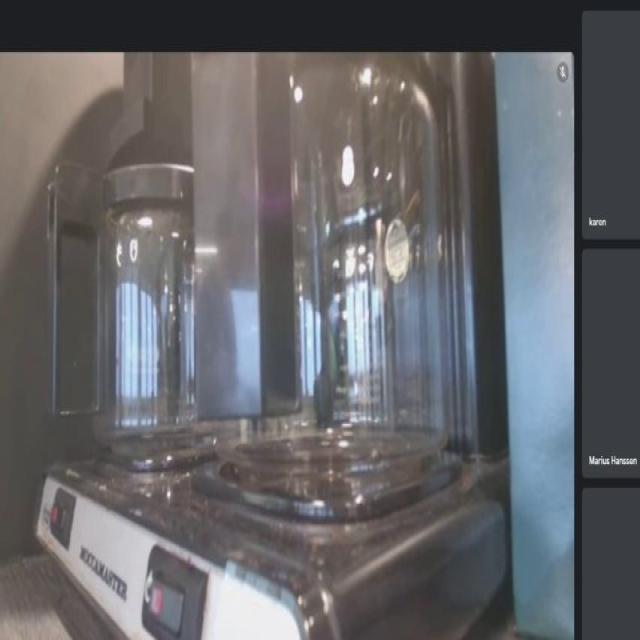nocoffee: (178, 53, 477, 520), (60, 130, 268, 487)
